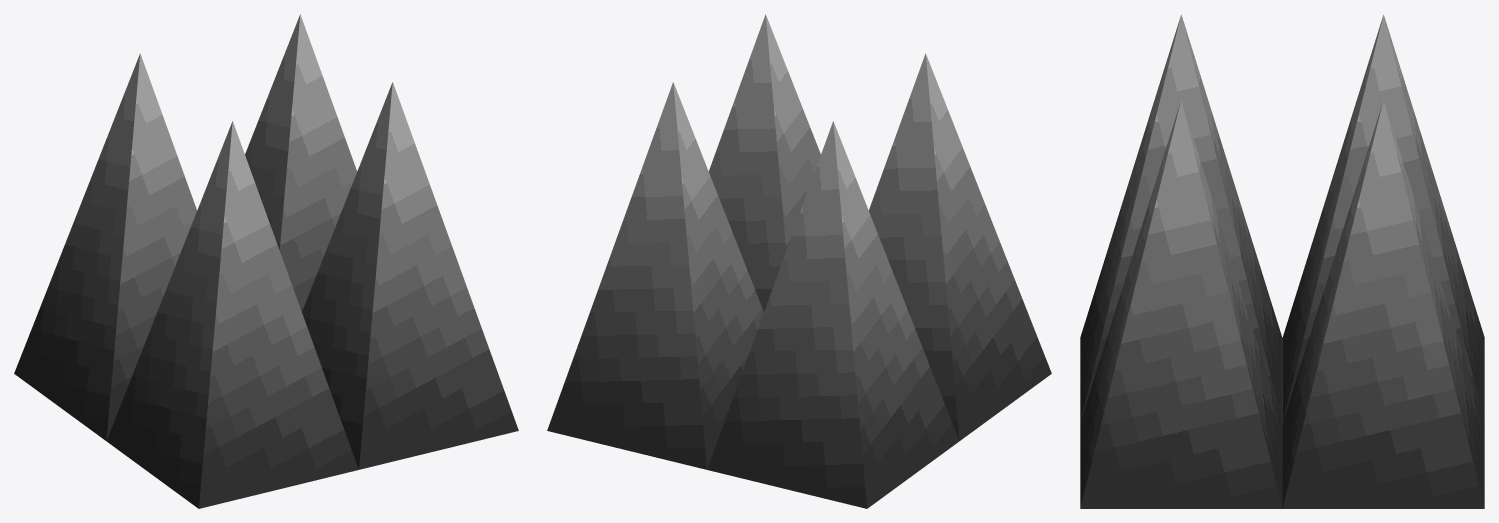
The model's file is spike.gltf.
3 renders of one model, left to right at view 1: azimuth 30°, elevation 25°; view 2: azimuth 150°, elevation 25°; view 3: azimuth 270°, elevation 25°, orthographic. The views are drawn at different scales.
Parts seen in each view (by area): view 1: pyramid (×4); view 2: pyramid (×4); view 3: pyramid (×4).
Part boxes in pixels (x1,y1,x2,y2): pyramid (×4): [14, 14, 518, 508]; pyramid (×4): [547, 14, 1051, 508]; pyramid (×4): [1080, 14, 1484, 508].
Size of the model in its own units: 1 by 1 by 1.
Materials: 1 (1 with a texture image).
